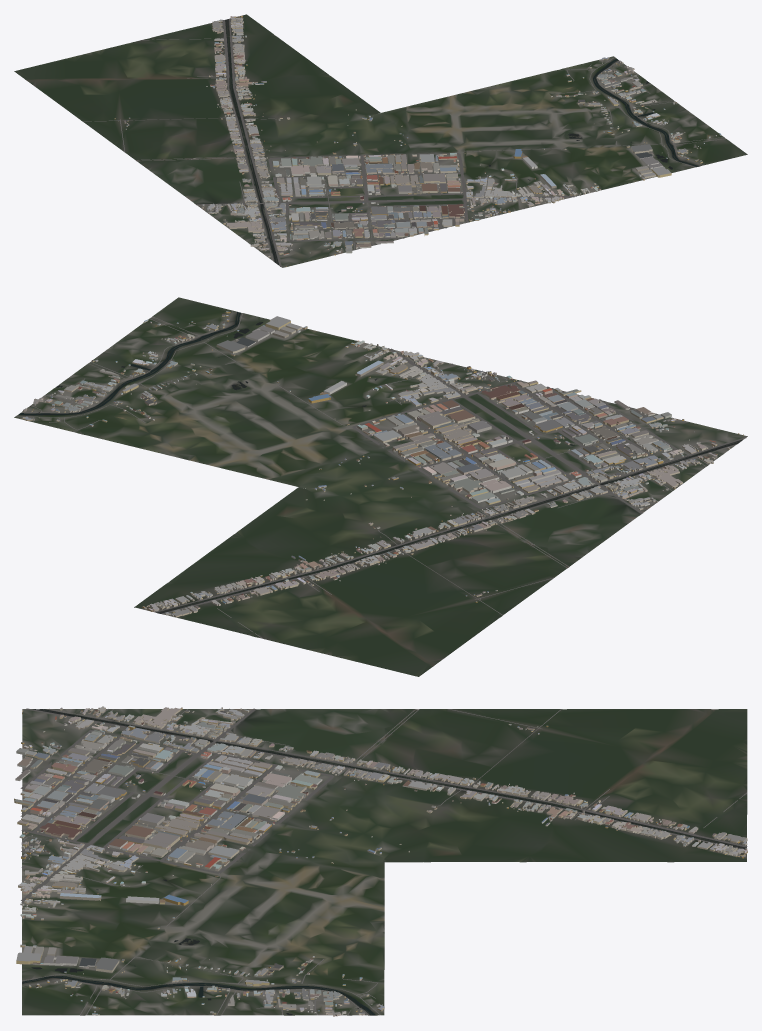
3 views of the same model, one above another, from view 1: azimuth 30°, elevation 25°; view 2: azimuth 150°, elevation 25°; view 3: azimuth 270°, elevation 25° (orthographic). The views are drawn at different scales.
Visible parts, largest first — view 1: ground, buildings, roads, water; view 2: ground, buildings, roads, water; view 3: ground, buildings, roads, water.
Boxes of the visible parts, x1,y1,x2,y2 form: ground: (14, 14, 747, 267); buildings: (114, 15, 721, 266); roads: (83, 18, 724, 266); water: (225, 19, 699, 264); ground: (14, 297, 747, 676); buildings: (22, 311, 743, 617); roads: (15, 311, 746, 638); water: (18, 311, 742, 613); ground: (22, 709, 747, 1015); buildings: (14, 706, 747, 1016); roads: (20, 708, 747, 1015); water: (22, 709, 746, 1015).
Bounding box in the file's own units: 2823 × 23.71 × 2836.
